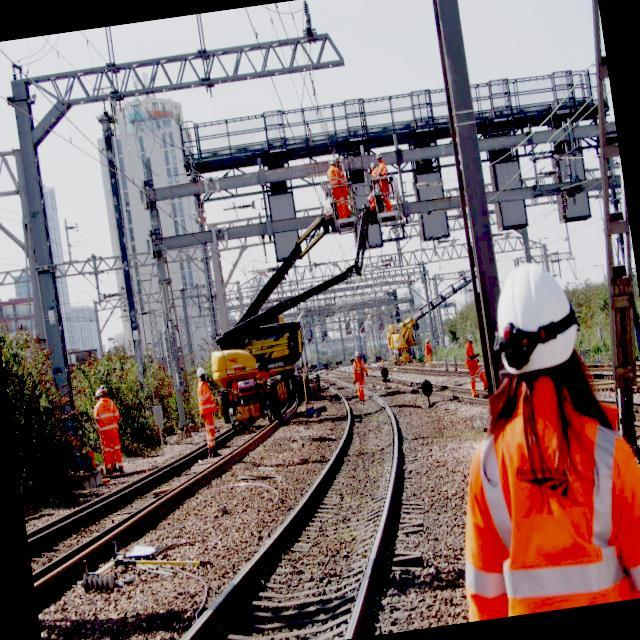danger: (438, 273, 640, 626), (206, 150, 393, 415), (90, 388, 127, 473), (191, 370, 224, 449), (459, 333, 489, 401), (346, 350, 374, 405)
rail: (157, 369, 418, 640), (23, 412, 295, 609)
